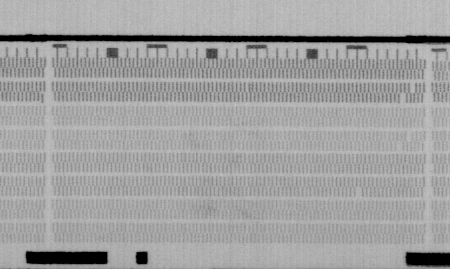Broken hole: (398, 92, 409, 105), (405, 130, 415, 143), (395, 141, 406, 152), (407, 82, 417, 93), (354, 188, 364, 198)
Oblique printing: (243, 81, 254, 93), (37, 92, 47, 105)
